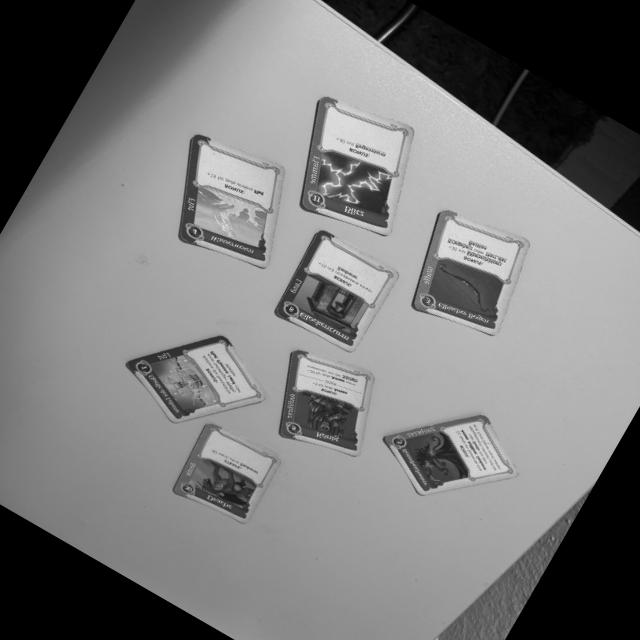Clock Tower: (272, 226, 401, 354)
Dragon: (167, 418, 284, 528)
Elven Longbow: (412, 206, 533, 339)
Fountain Of Life: (122, 327, 270, 427)
King: (275, 339, 376, 462)
Lightning: (299, 94, 414, 237)
Necromancer: (381, 411, 523, 499)
Water Elemental: (176, 128, 286, 267)
